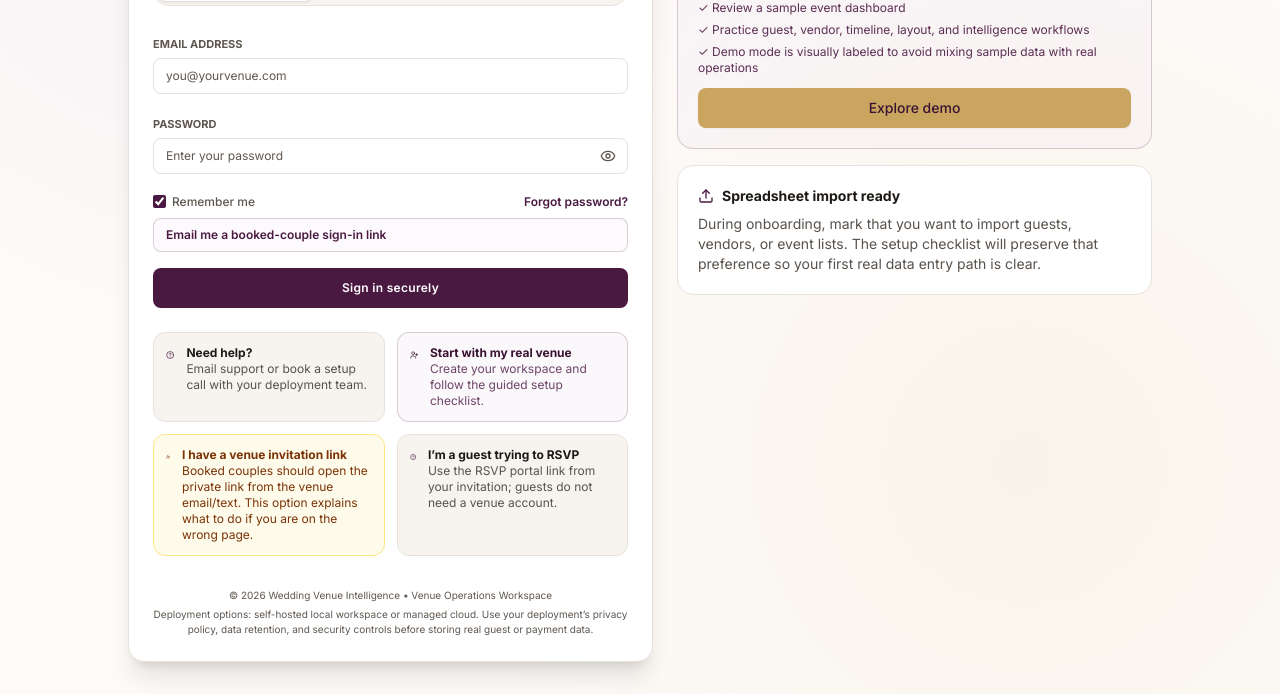
Test: AuthScreen first-time owner UX › guides booked couples and RSVP guests away from creating venue owner workspaces
(page scrolled)
expect the text "I’m a guest trying to RSVP" is shown: met, box [428, 446, 579, 462]
What coordinates should you click on to do the following:
click the button "I have a venue invitation link"
I would click on:
 (269, 494)
Its box is [153, 434, 384, 556].
(page scrolled)
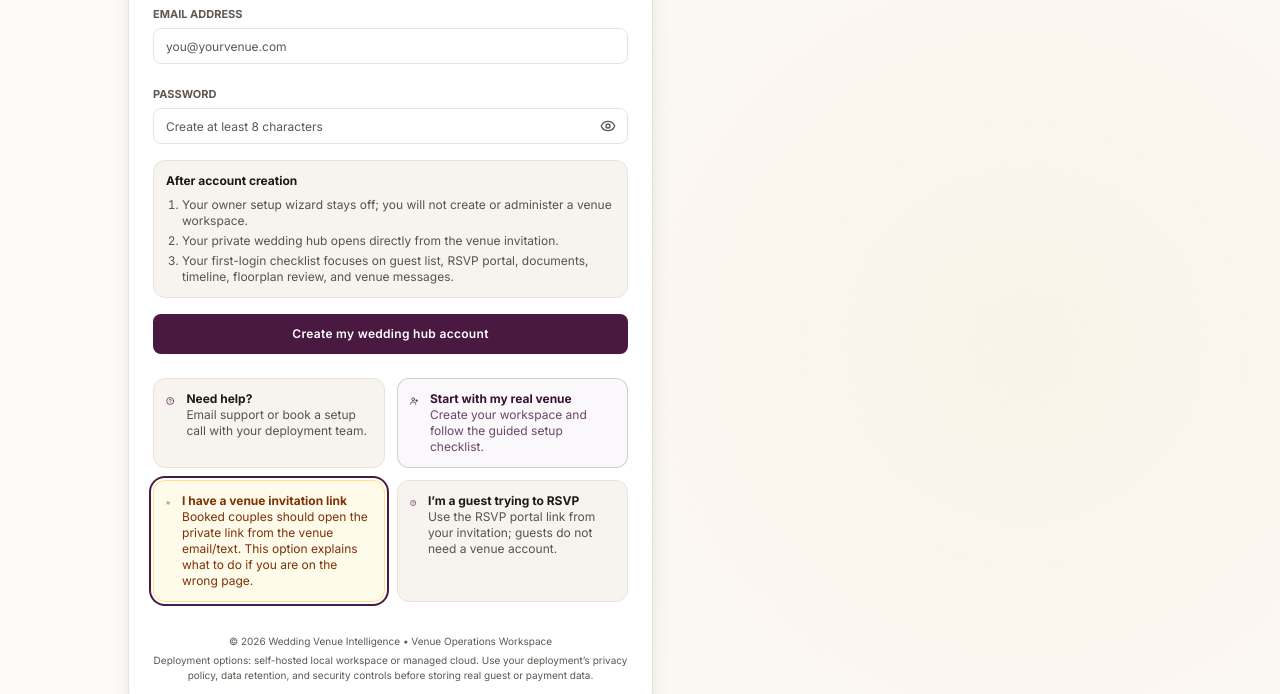
expect the button "Create my wedding hub account" is shown: met, box [153, 314, 628, 354]
